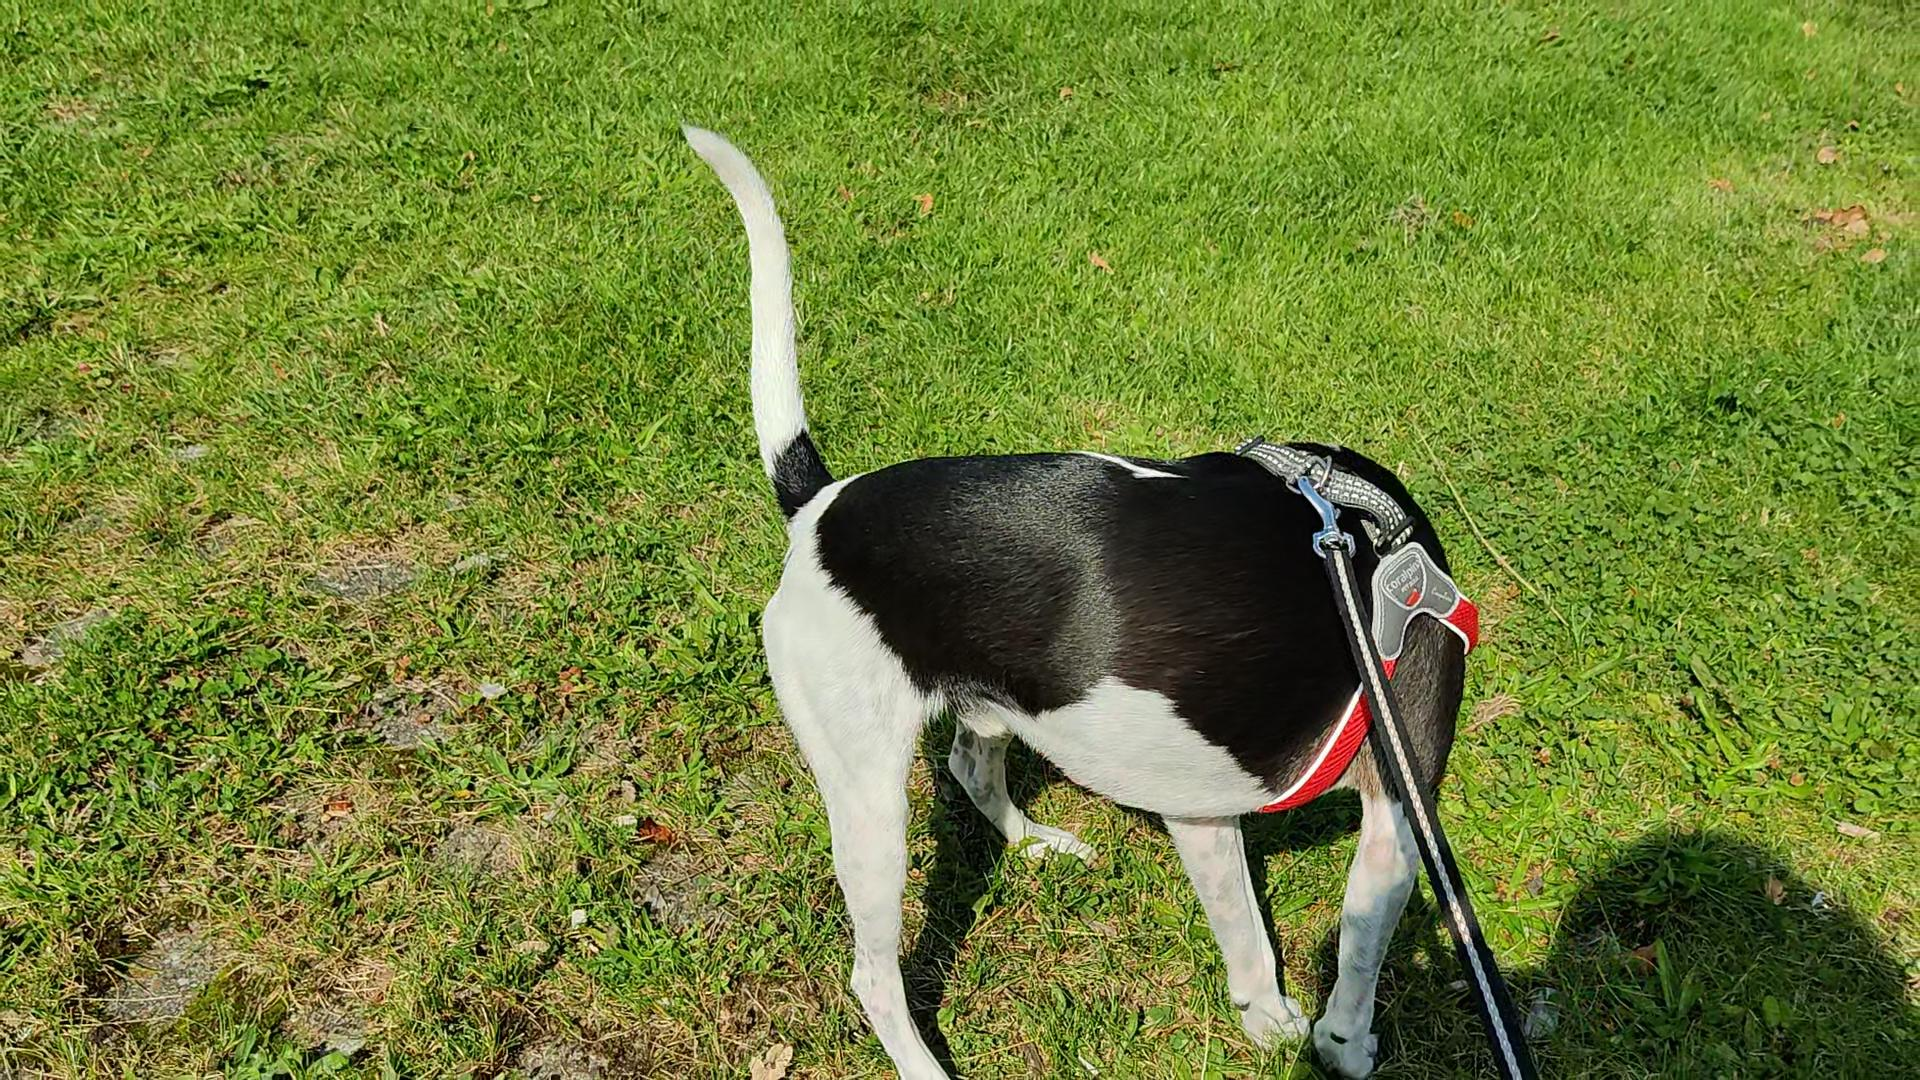Dog: (655, 98, 1503, 1079)
